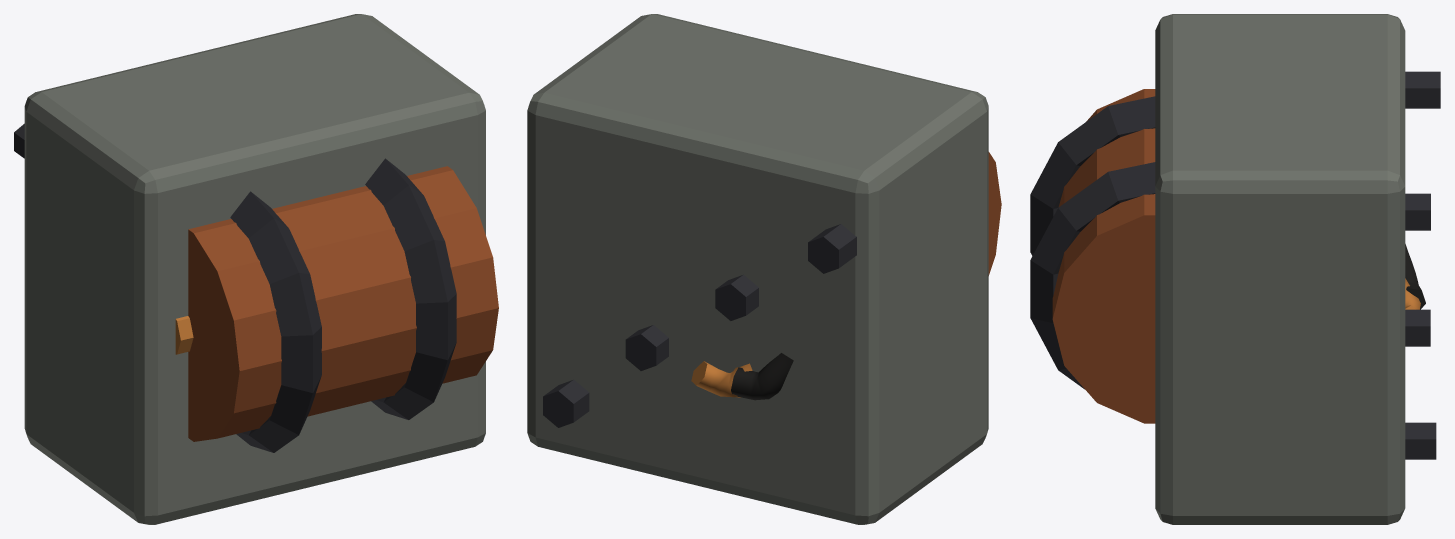
File: mo_reactive.glb
3 views of the same model, side by side, from view 1: azimuth 30°, elevation 25°; view 2: azimuth 150°, elevation 25°; view 3: azimuth 270°, elevation 25° (orthographic).
Visible parts, largest first — view 1: mo_reactive; view 2: mo_reactive; view 3: mo_reactive.
Boxes of the visible parts, x1,y1,x2,y2 form: mo_reactive: [14, 14, 498, 524]; mo_reactive: [527, 14, 1001, 524]; mo_reactive: [1030, 14, 1440, 524].
Size of the model in its own units: 0.1187 by 0.1147 by 0.1205.
